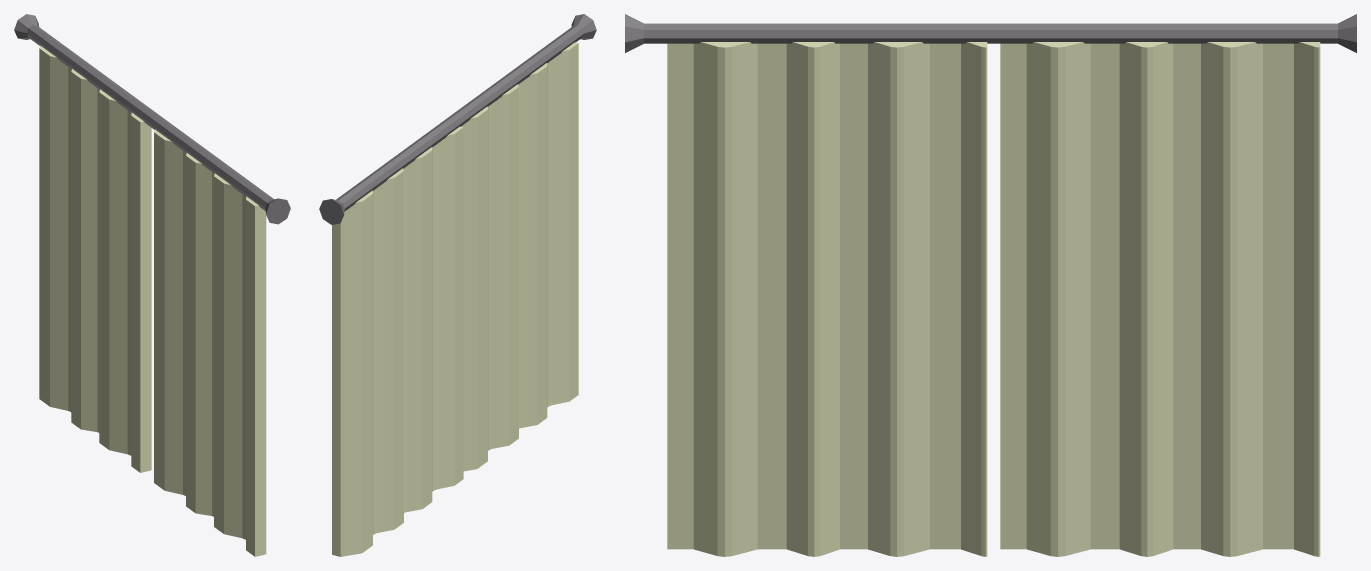
File: curtains.glb
The picture shows the model from 3 angles, left to right: view 1: azimuth 30°, elevation 25°; view 2: azimuth 150°, elevation 25°; view 3: azimuth 270°, elevation 25°; orthographic projection. The views are drawn at different scales.
Parts seen in each view (by area): view 1: Cube.001, Cube, Cylinder; view 2: Cube.001, Cube, Cylinder; view 3: Cube, Cube.001, Cylinder.
Part boxes in pixels (box(x1,y1,x2,y2)): Cube.001: box(39, 45, 151, 472); Cube: box(154, 129, 266, 556); Cylinder: box(14, 14, 290, 224); Cube.001: box(332, 126, 463, 556); Cube: box(461, 42, 578, 471); Cylinder: box(319, 14, 596, 224); Cube: box(667, 42, 987, 556); Cube.001: box(1000, 42, 1320, 556); Cylinder: box(625, 14, 1356, 52).
Size of the model in its own units: 0.1851 by 2.55 by 3.18.
